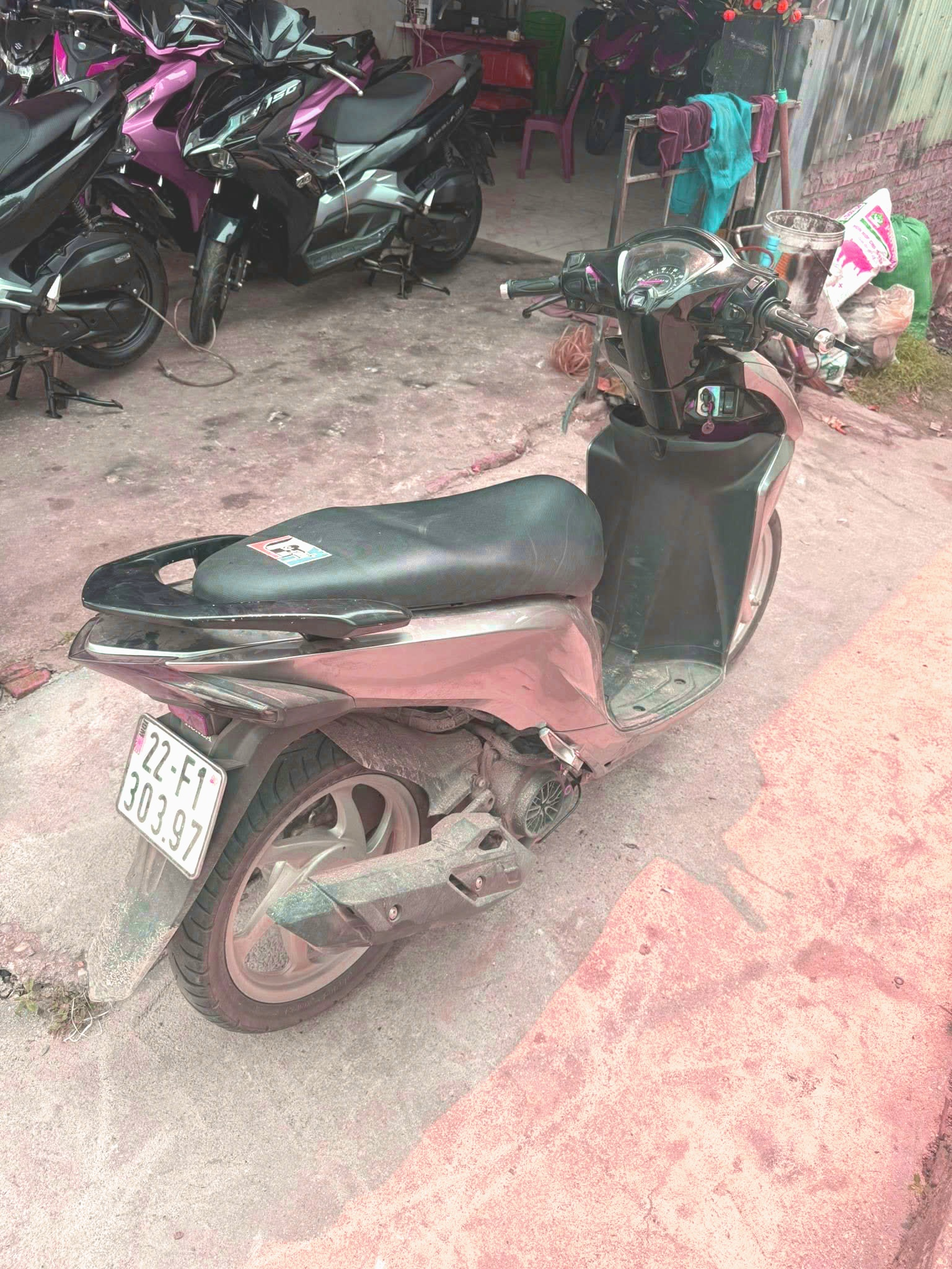Bien-so: (74, 671, 215, 850)
